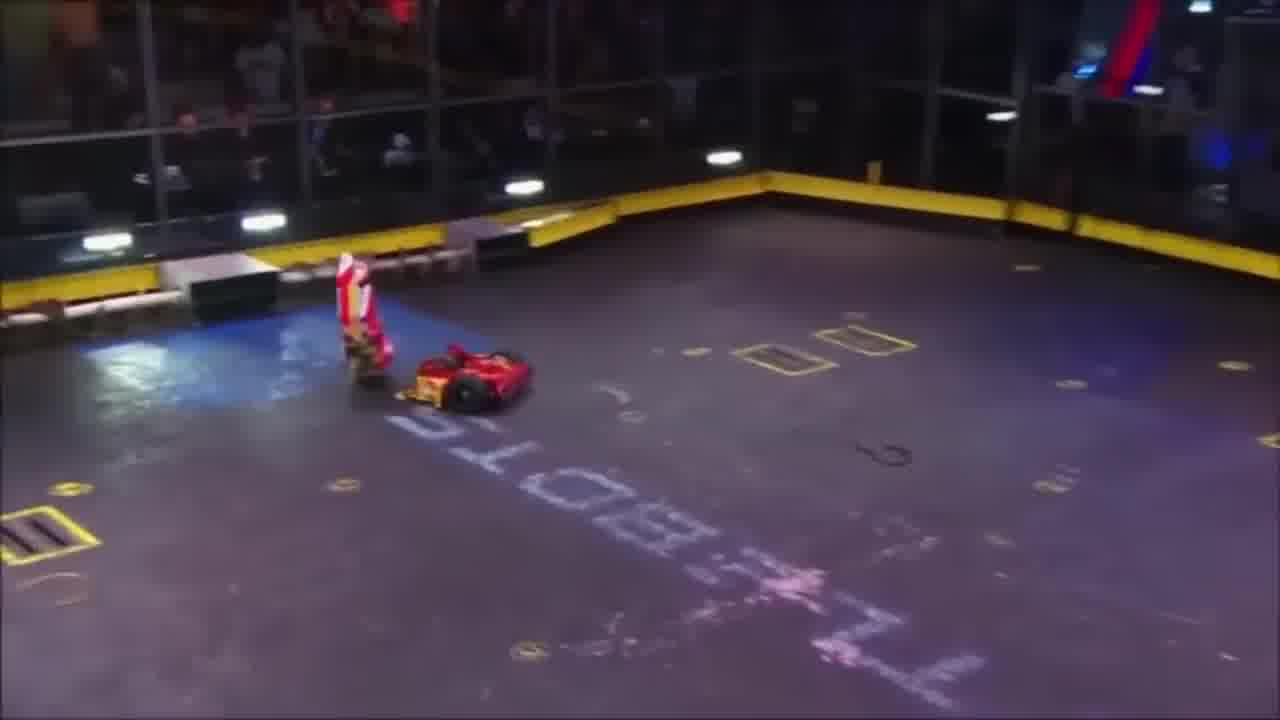belt: (844, 430, 920, 482)
combatbot: (397, 329, 544, 428), (331, 252, 389, 387)
